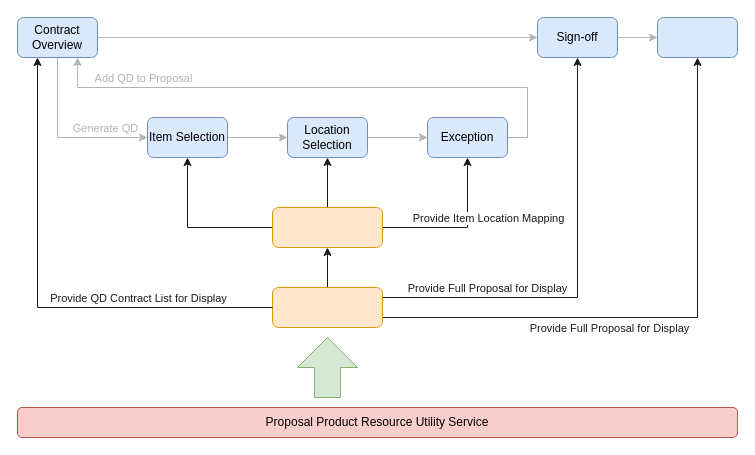
Image size: 755x455. Some labels were removed from this diagram. The shapes that lost their labels are listed below. From the top down, each one's centre as x and y in pixels, then its label:
At (x=697, y=37): "export".
At (x=327, y=227): "QD Contract Data Handler".
At (x=327, y=307): "Proposal Data Handler".
